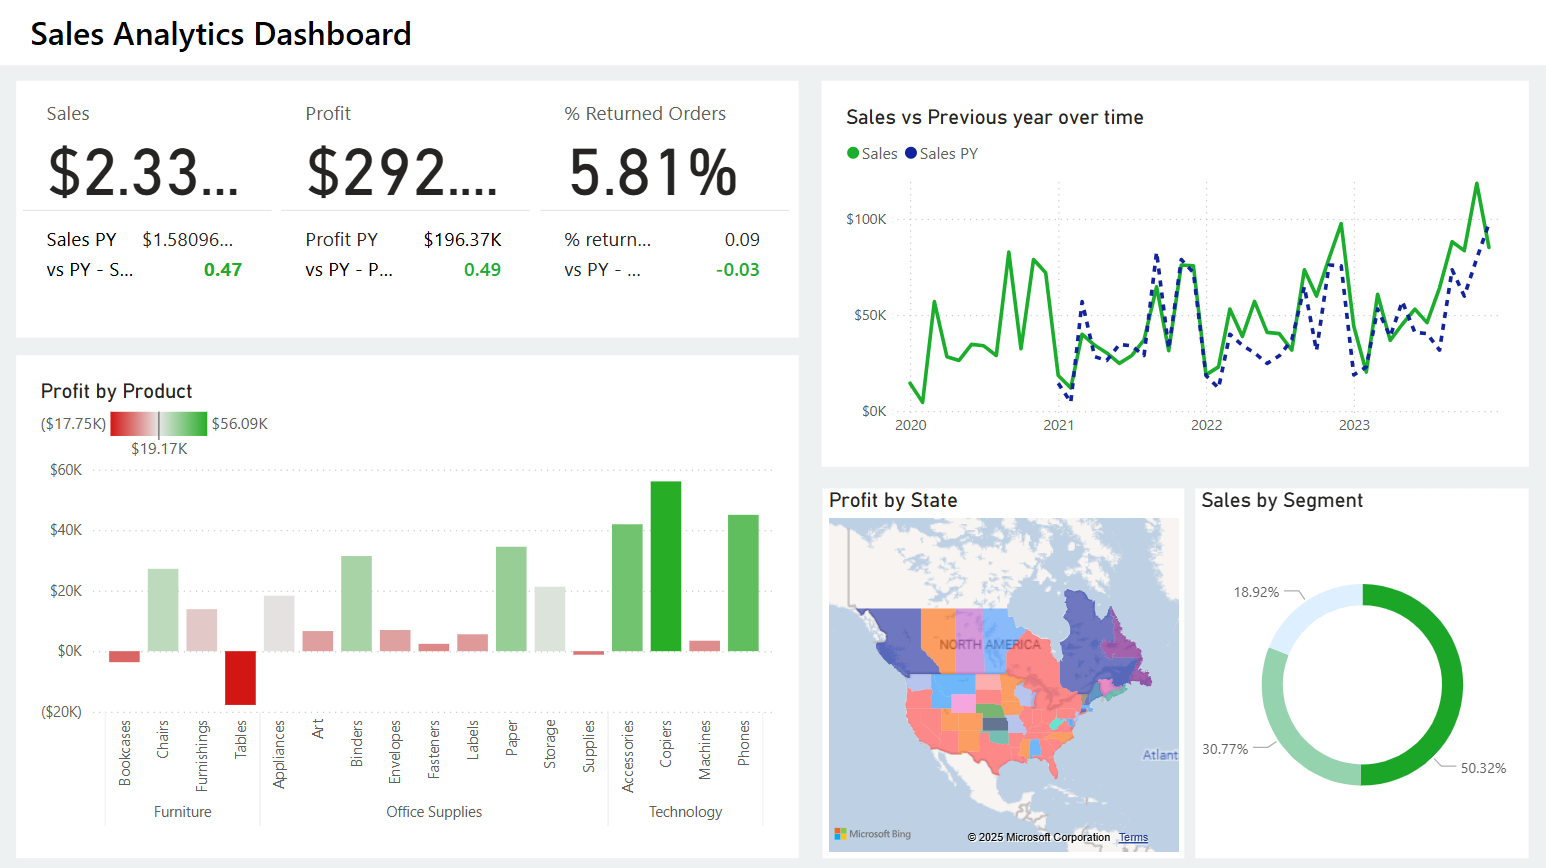

Layout of this report page (visuals, bound fields, positions):
{"tool":"powerbi","page":{"name":"Page 1","canvas":[1280,720],"ordinal":0},"visuals":[{"type":"cardVisual","fields":{"Data":["Key Measures.Sales","Key Measures.Profit","Key Measures.% Returned Orders"]},"box":[13.3,68.3,646.7,212.5],"z":0},{"type":"shape","box":[0,0,1280,55.4],"z":1000},{"type":"lineChart","title":"Sales vs Previous year over time","fields":{"Y":["Key Measures.Sales","Key Measures.Sales PY"],"Category":["Date Table.Start of month"]},"box":[679.2,68.3,584.2,319.2],"z":2000},{"type":"columnChart","title":"Profit by Product","fields":{"Category":["Orders.Category","Orders.Sub-Category"],"Y":["Key Measures.Profit"]},"box":[13.3,295,646.7,415],"z":3000},{"type":"filledMap","title":"Profit by State","fields":{"Series":["Date Table.Start of month"],"Category":["Orders.State/Province"]},"box":[680,405,299.2,305],"z":4000},{"type":"donutChart","title":"Sales by Segment","fields":{"Category":["Orders.Segment"],"Y":["Key Measures.Sales"]},"box":[987.5,405,275.8,305],"z":5000}]}

Visuals, with their boxes in screenshot pixels (x1, y1, x2, y2), scaled from the page's 1280x720 canvas onto the 1546x868 screenshot:
cardVisual - Key Measures.Sales x Key Measures.Profit: bbox=[16, 82, 797, 339]
shape: bbox=[0, 0, 1545, 67]
"Sales vs Previous year over time" lineChart: bbox=[820, 82, 1526, 467]
"Profit by Product" columnChart: bbox=[16, 356, 797, 856]
"Profit by State" filledMap: bbox=[821, 488, 1183, 856]
"Sales by Segment" donutChart: bbox=[1193, 488, 1526, 856]
